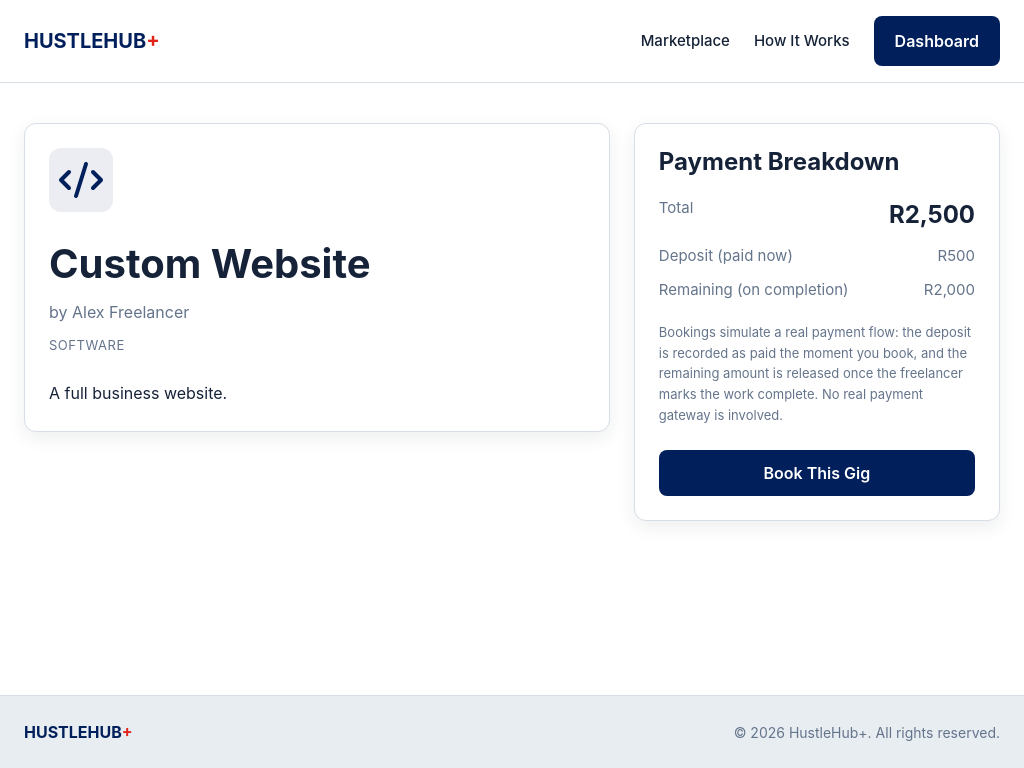
Test: Gig details: what each visitor can do › a client can book an active gig
The image size is (1024, 768).
Click the button "Book This Gig" at (817, 473), box [659,450,975,496]
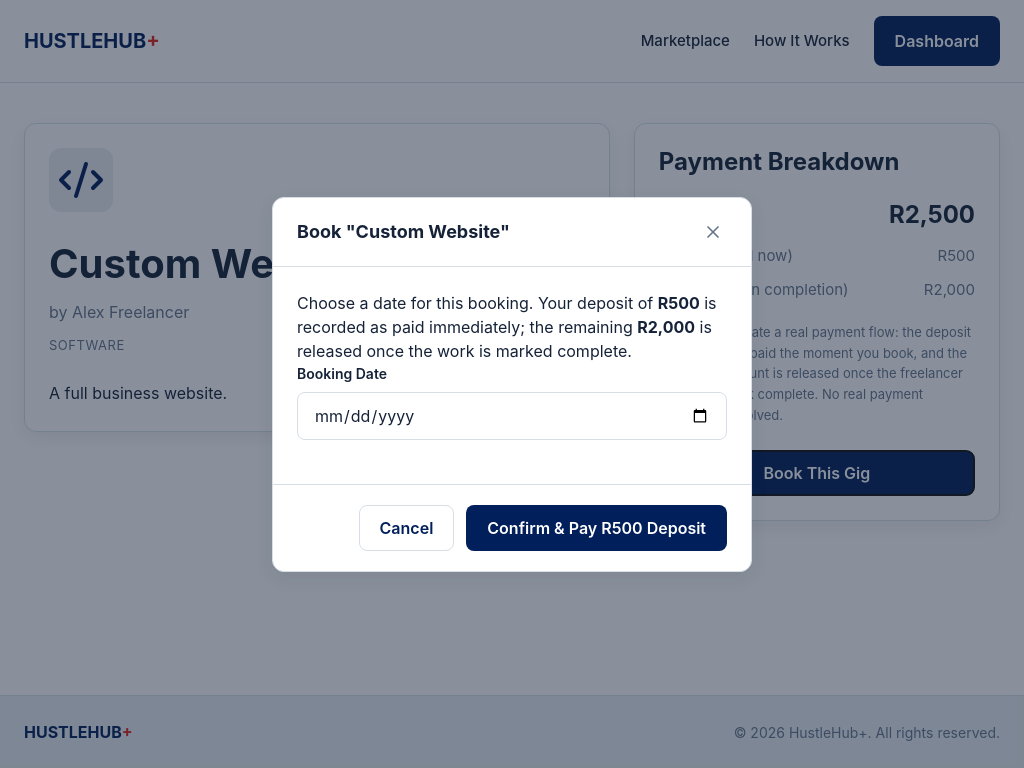
Result: the dialog shows "Book \"Custom Website\"" at [297,221,510,242]
